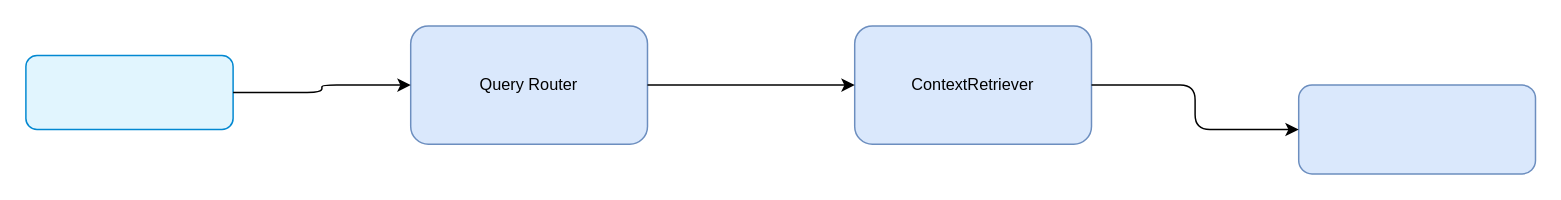
Image size: 1561x200. Some labels were removed from this diagram. The centre of each missing label's shape, as x and y in pixels:
Session Factory: point (1416, 129)
User Query: point (128, 92)
